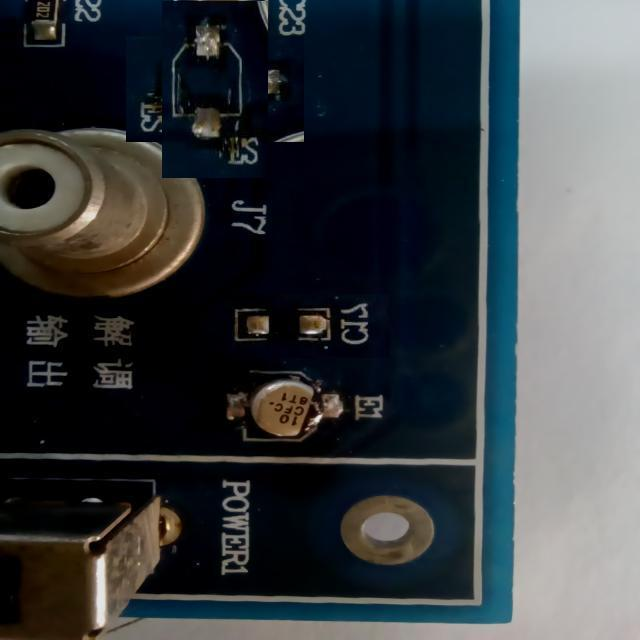miss_welding: (144, 18, 286, 160), (224, 294, 390, 358)
